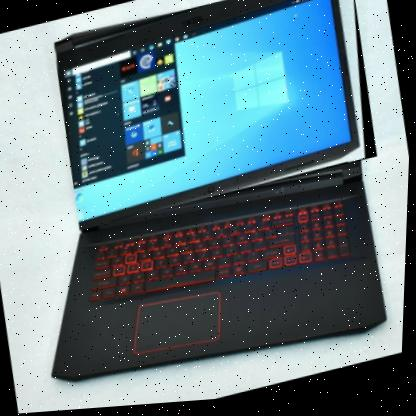Normal: (47, 0, 385, 235)
